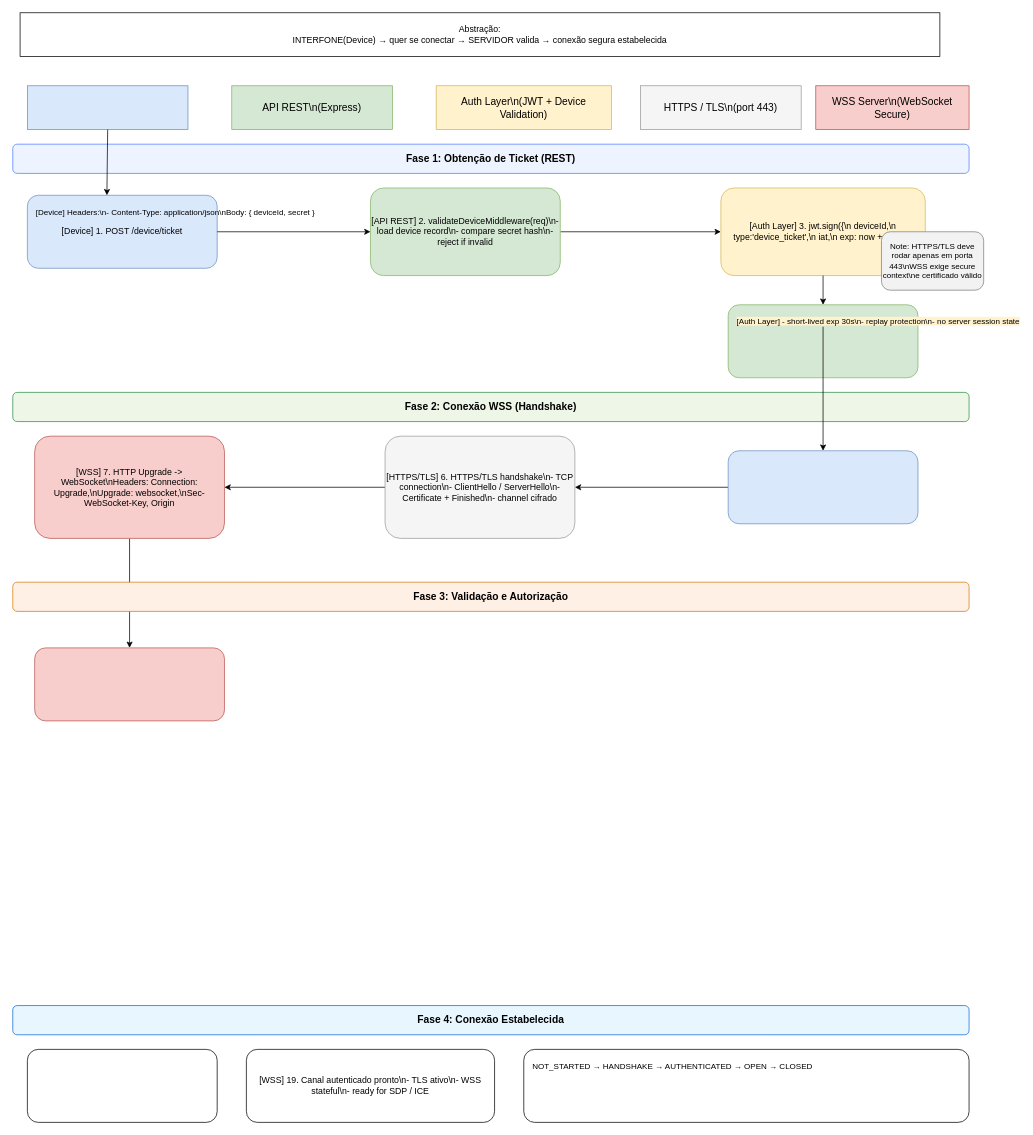
Image size: 1033x1135. Some labels were removed from this diagram. Here are the shapes that lost their labels. From the top down, the box of each, then its label:
(27, 85, 188, 130): Device
(727, 304, 918, 378): [API REST] 4. Response 200 OK\nBody: { token: JWT }
(727, 450, 918, 524): [Device] 5. Device abre wss://server?token=JWT
(34, 647, 224, 721): [WSS] 8. extract token from req.url\n(token query param)
(27, 1049, 217, 1122): [WSS] 18. 101 Switching Protocols\nWSS OPEN state
(523, 1049, 969, 1122): [WSS] Estados da conexão
